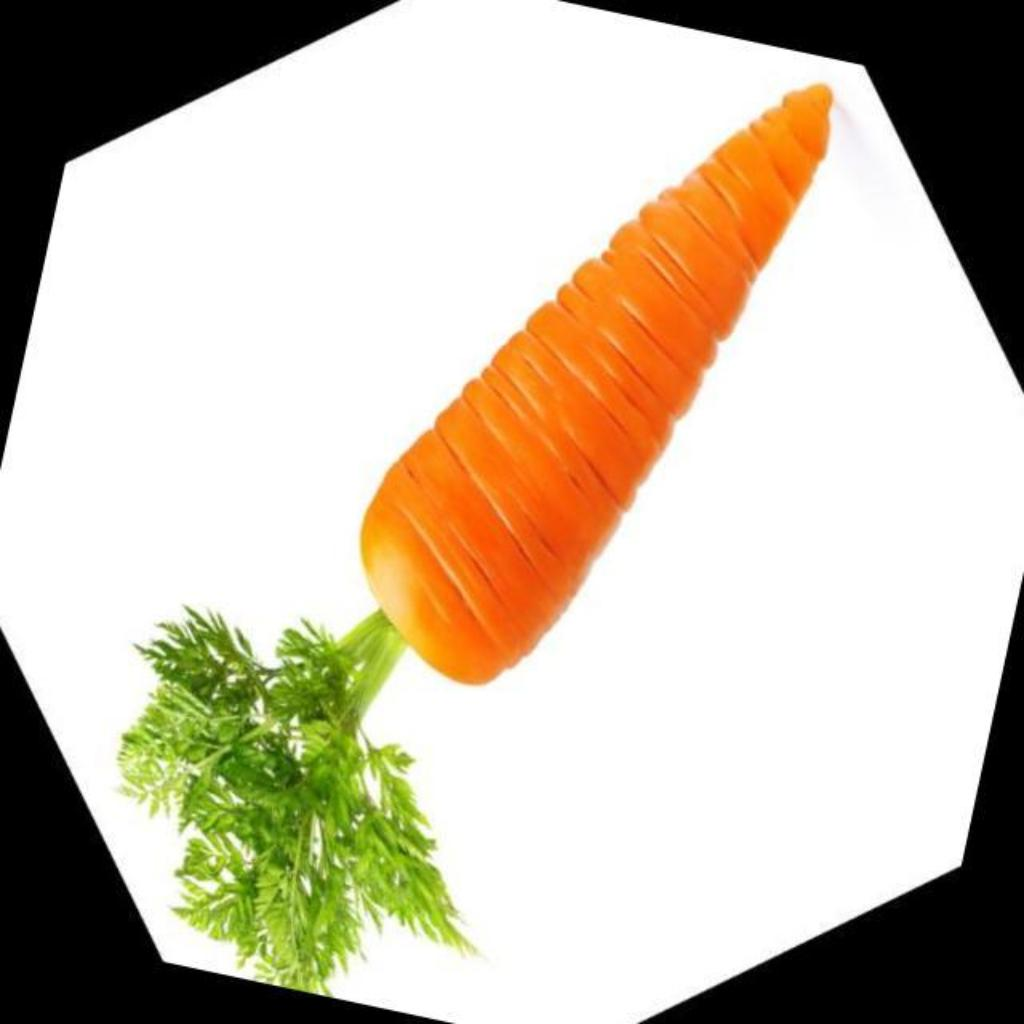carrot: (118, 86, 832, 990)
